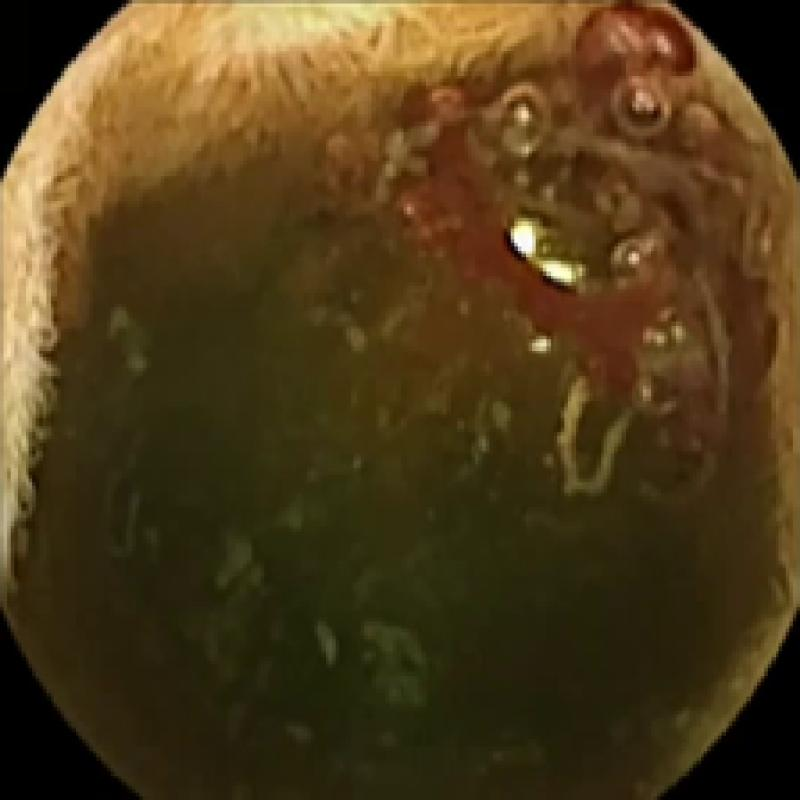bleeding: (405, 131, 661, 410), (578, 3, 704, 72)
